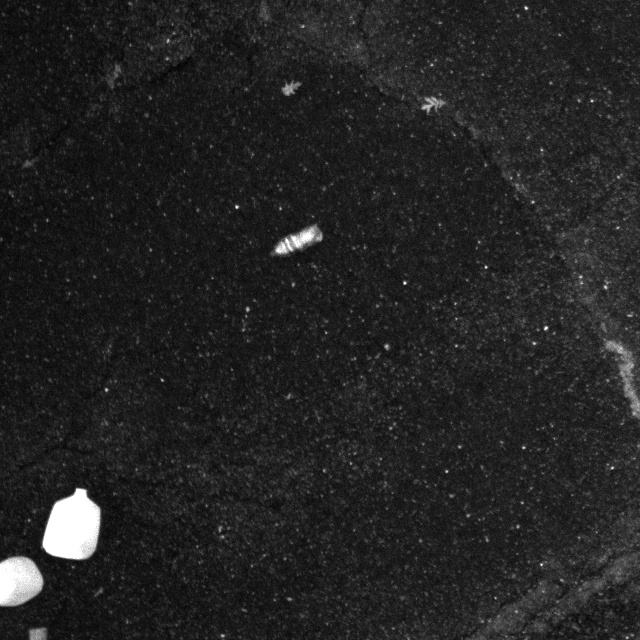bottle: (267, 221, 325, 264)
can: (36, 488, 106, 559)
